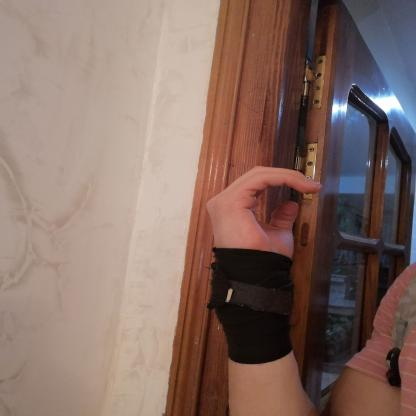JEEM: (192, 154, 338, 281)
